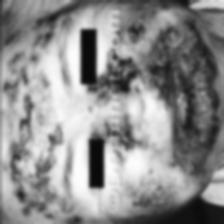Potentially Malignant Skin Tumors: (10, 30, 56, 223), (170, 18, 214, 180), (118, 8, 164, 83), (130, 178, 168, 214), (99, 50, 113, 104)
